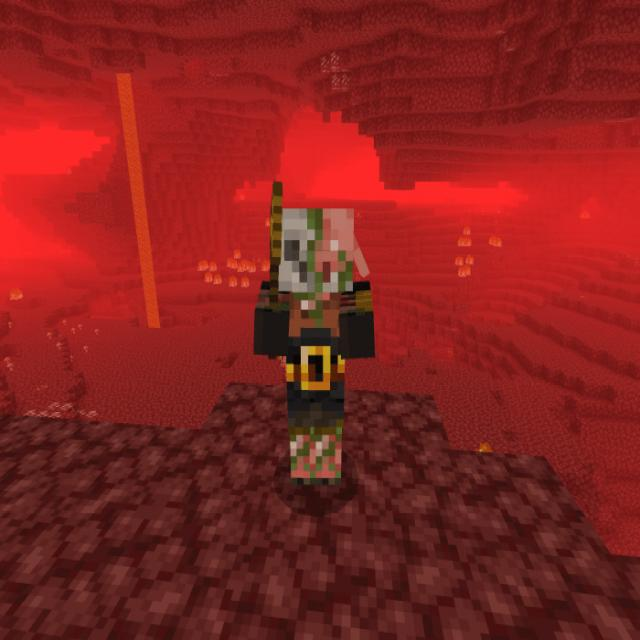Zombified Piglin: (253, 183, 378, 497)
